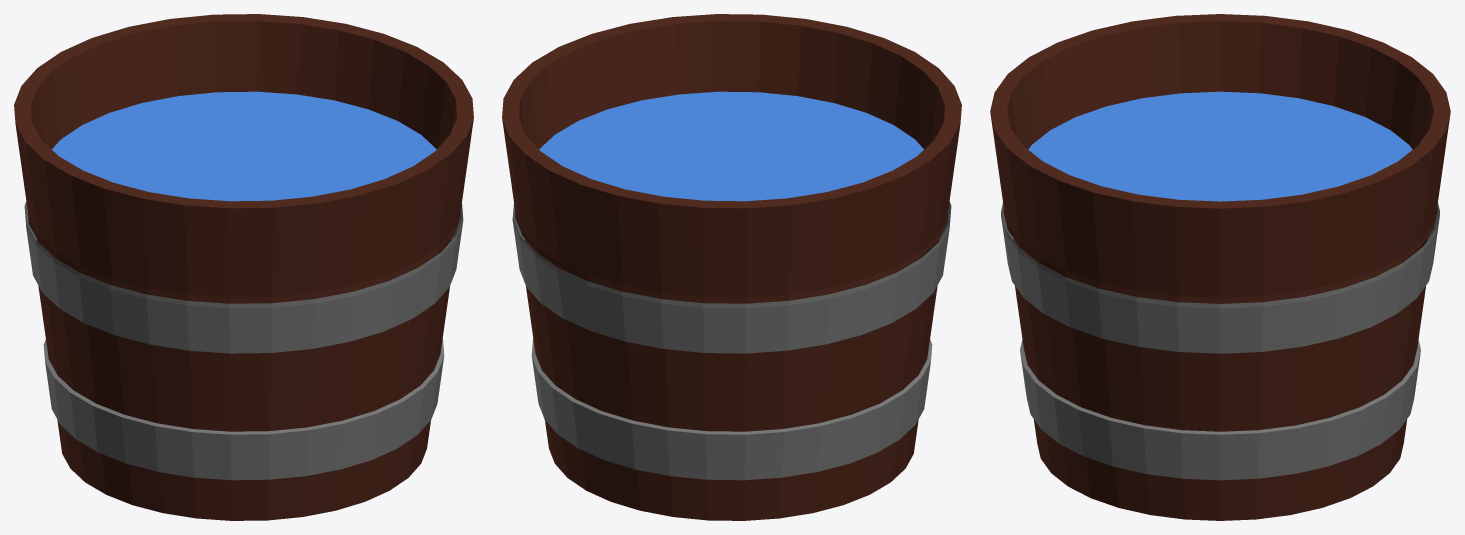
File: WaterBucket.fbx
The picture shows the model from 3 angles, left to right: view 1: azimuth 30°, elevation 25°; view 2: azimuth 150°, elevation 25°; view 3: azimuth 270°, elevation 25°; orthographic projection.
Parts seen in each view (by area): view 1: Cylinder, Cylinder.001; view 2: Cylinder, Cylinder.001; view 3: Cylinder, Cylinder.001.
Part boxes in pixels (x1,y1,x2,y2): Cylinder: (14, 14, 473, 520); Cylinder.001: (52, 91, 436, 201); Cylinder: (502, 14, 961, 520); Cylinder.001: (539, 91, 923, 201); Cylinder: (990, 14, 1450, 520); Cylinder.001: (1028, 91, 1412, 201).
Bounding box in the file's own units: 648 × 516 × 648.
